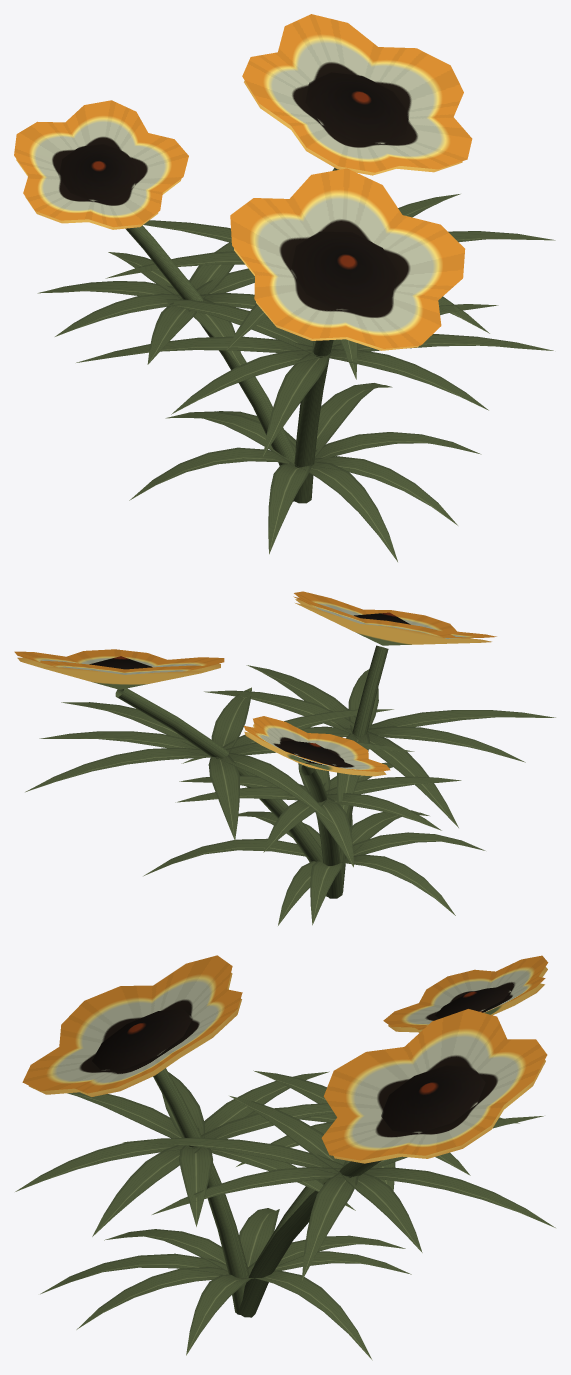
File: flower_yellow_high.glb
The picture shows the model from 3 angles, top to bottom: view 1: azimuth 30°, elevation 25°; view 2: azimuth 150°, elevation 25°; view 3: azimuth 270°, elevation 25°; orthographic projection. The views are drawn at different scales.
Visible parts, largest first — view 1: flower_yellow; view 2: flower_yellow; view 3: flower_yellow.
Part boxes in pixels (left/top/right/bottom): flower_yellow: left=14, top=14, right=555, bottom=561; flower_yellow: left=14, top=591, right=555, bottom=925; flower_yellow: left=15, top=955, right=555, bottom=1360.
Bounding box in the file's own units: 0.562 × 0.3867 × 0.5629.
1 material, 1 textured.
